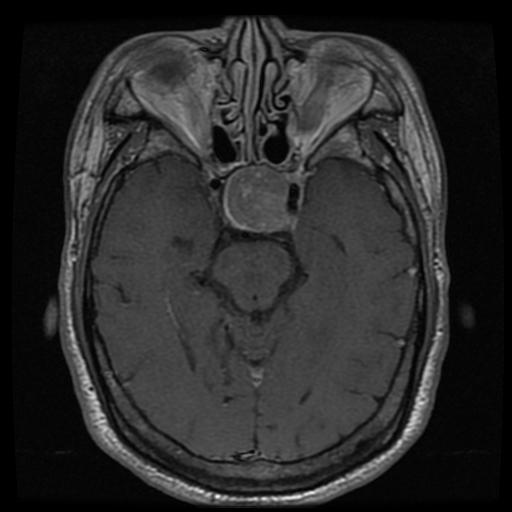Pituirity_tumour: (226, 167, 287, 231)
